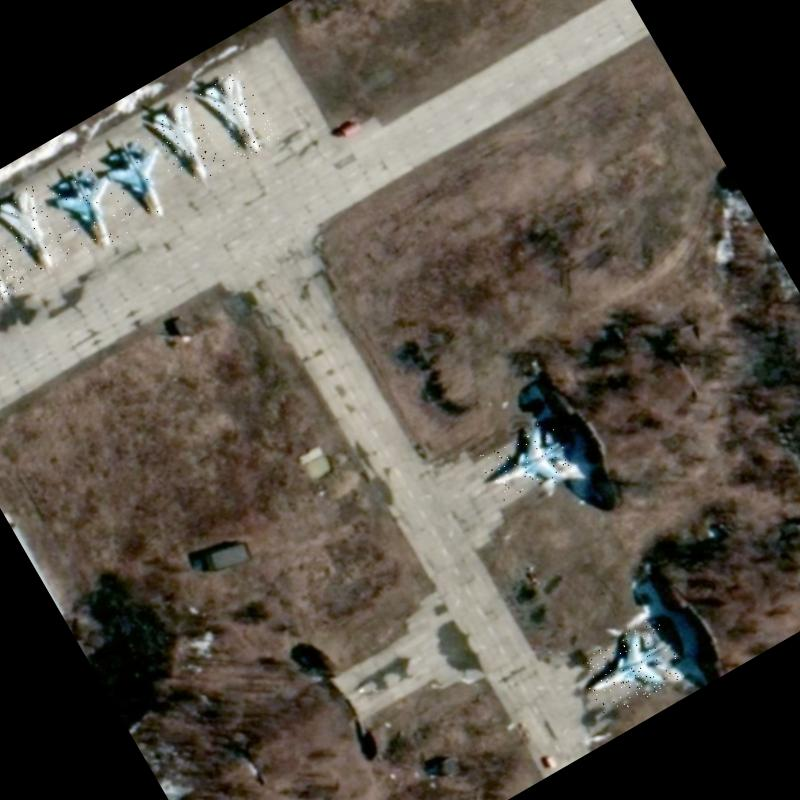A19: (574, 614, 690, 720), (477, 414, 585, 512), (95, 123, 192, 231), (44, 152, 140, 260)
A20: (198, 68, 280, 164), (147, 94, 228, 190), (0, 184, 73, 278), (0, 214, 28, 308)
